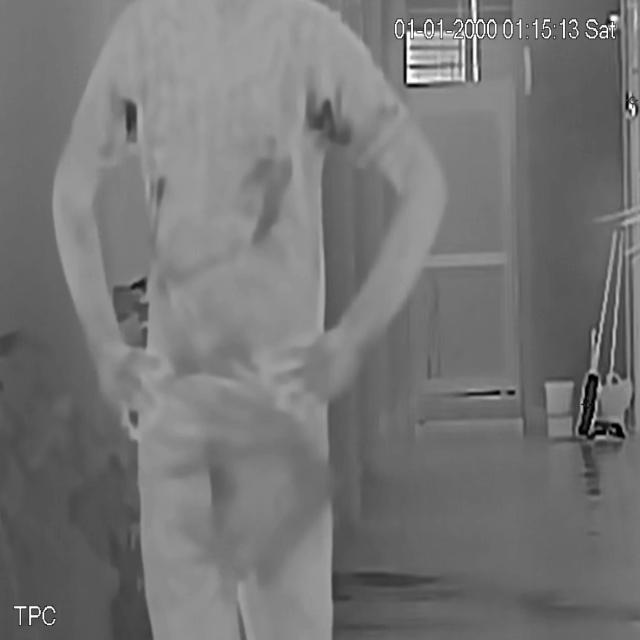Weapon: (256, 439, 340, 585)
